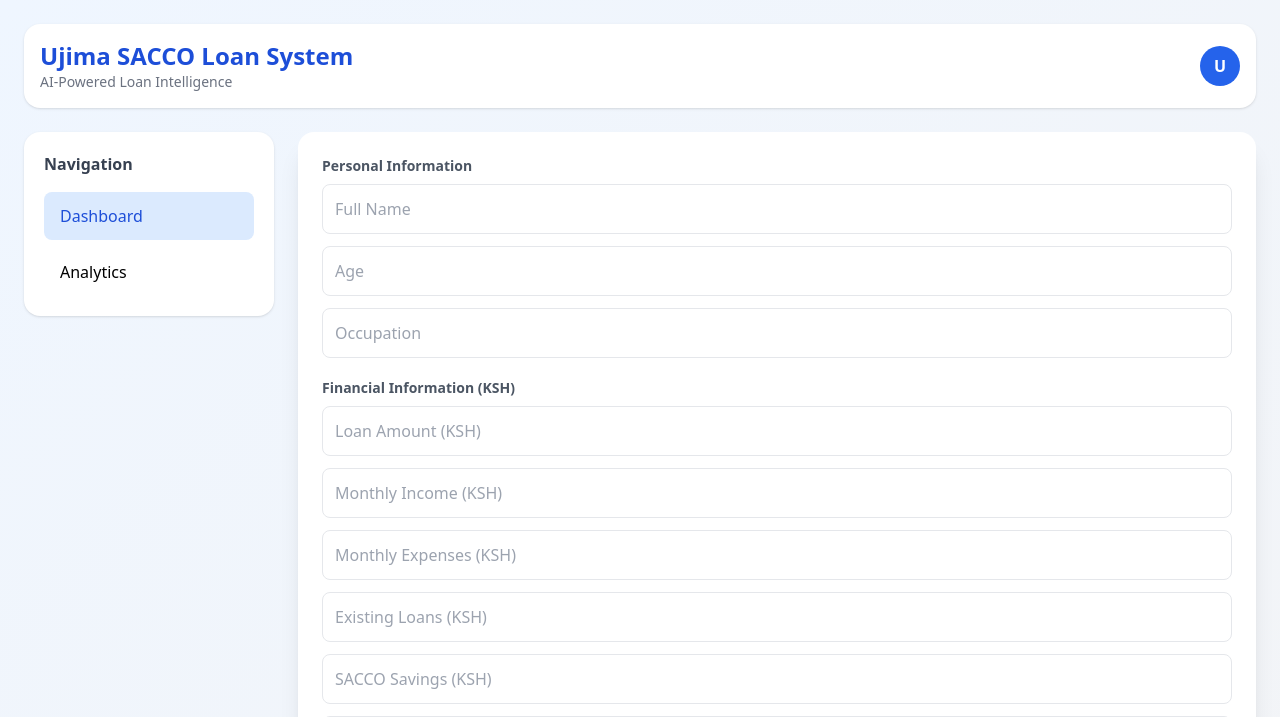
Test: Loan App › navigating to multiple pages
The image size is (1280, 717).
Click the link with test id "analytics-link" at [94, 272], box x1=60 y1=261 x2=127 y2=283
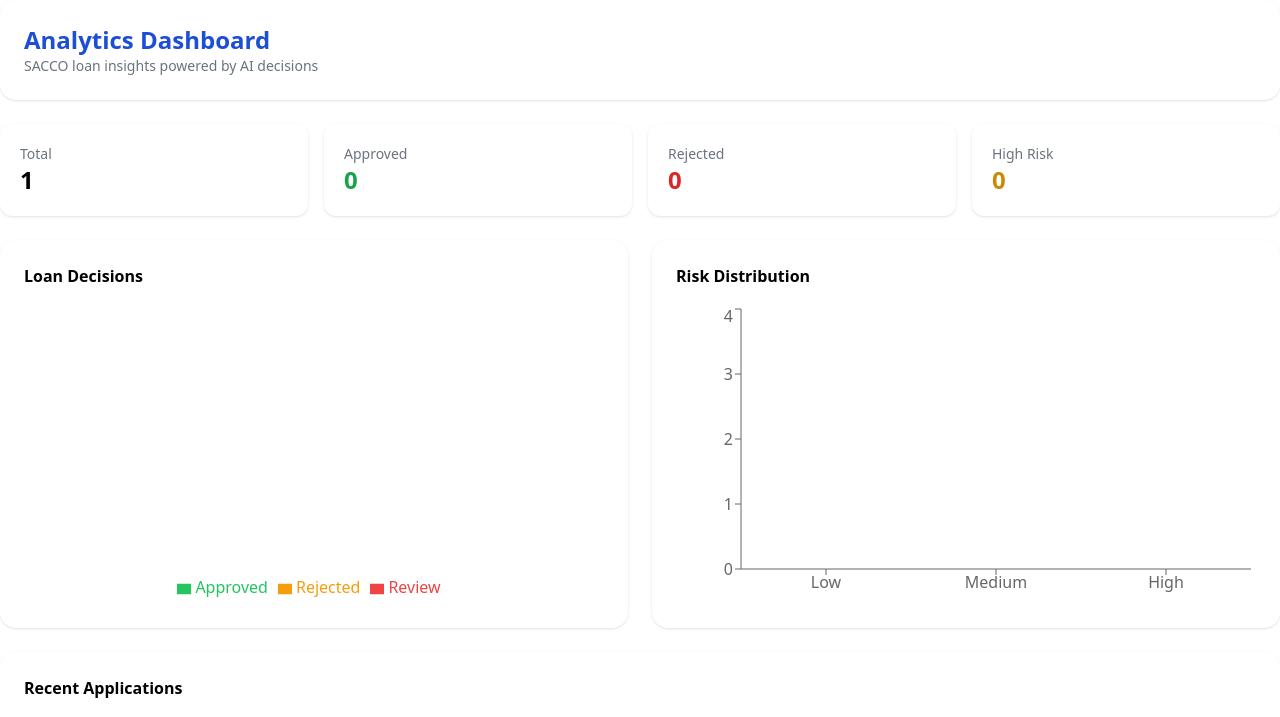
expect the heading "Analytics Dashboard" is shown: met, box x1=24 y1=23 x2=270 y2=56
